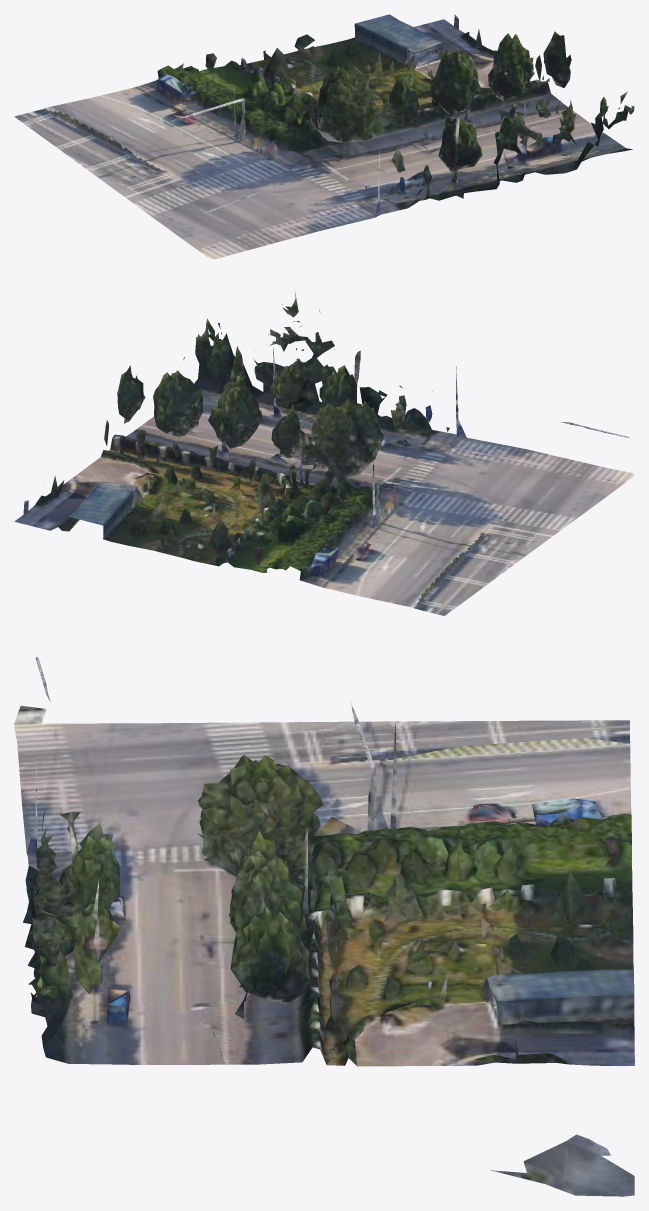
The model's file is Tile_+006_+007.glb.
The picture shows the model from 3 angles, top to bottom: view 1: azimuth 30°, elevation 25°; view 2: azimuth 150°, elevation 25°; view 3: azimuth 270°, elevation 25°; orthographic projection. The views are drawn at different scales.
Parts seen in each view (by area): view 1: rtc; view 2: rtc; view 3: rtc.
Boxes of the visible parts, bbox=[...] form: rtc: bbox=[14, 14, 634, 259]; rtc: bbox=[14, 290, 634, 615]; rtc: bbox=[14, 656, 634, 1196].
Bounding box in the file's own units: 70.76 × 34.2 × 55.78.
Materials: 1 (1 with a texture image).
